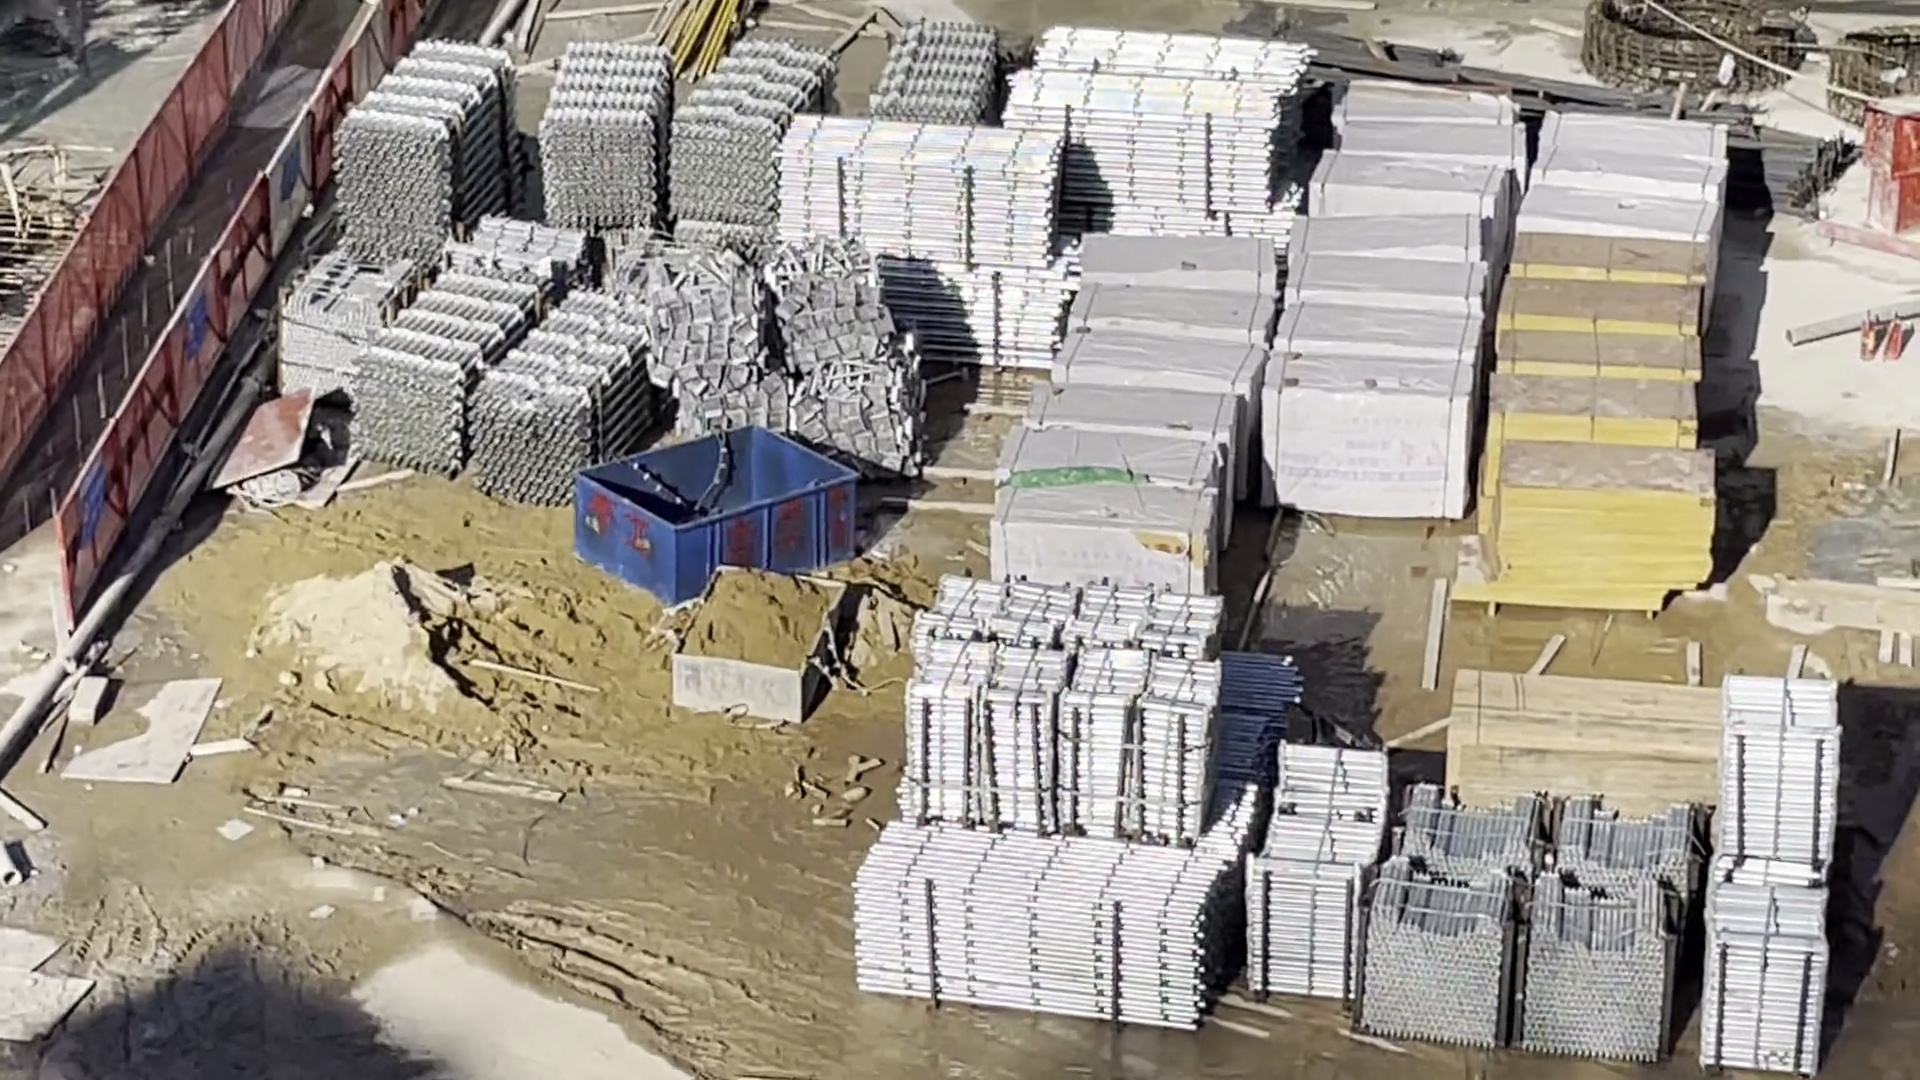board: (1484, 235, 1709, 618), (1448, 673, 1720, 814)
fence: (4, 4, 382, 550)
hopper: (579, 429, 858, 604), (670, 564, 851, 723)
rebar: (1338, 26, 1840, 207)
scaffold: (851, 820, 1232, 1038), (1370, 795, 1691, 1054), (901, 584, 1216, 831), (775, 123, 1065, 357), (363, 280, 655, 496), (1015, 29, 1302, 203), (1706, 679, 1828, 1065), (549, 47, 831, 208), (339, 49, 509, 262), (1251, 745, 1379, 996), (873, 22, 996, 119)
slogan: (76, 454, 108, 541), (183, 284, 208, 357)
